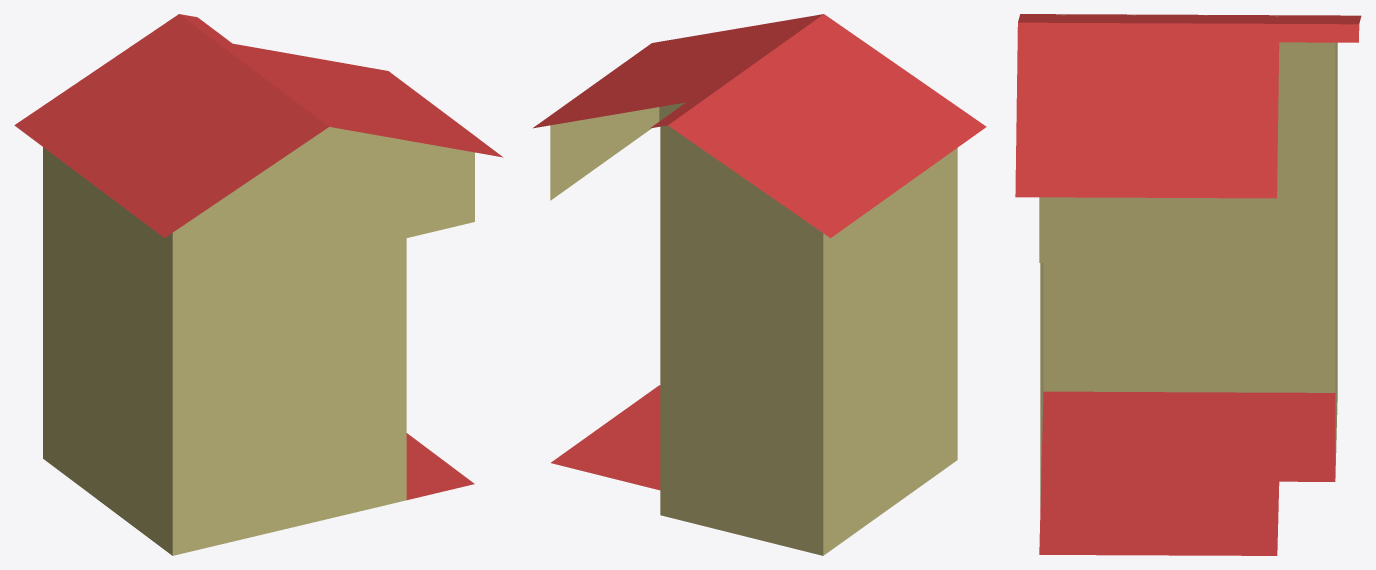
The picture shows the model from 3 angles, left to right: view 1: azimuth 30°, elevation 25°; view 2: azimuth 150°, elevation 25°; view 3: azimuth 270°, elevation 25°; orthographic projection. The views are drawn at different scales.
Size of the model in its own units: 9.26 by 7.34 by 10.48.
